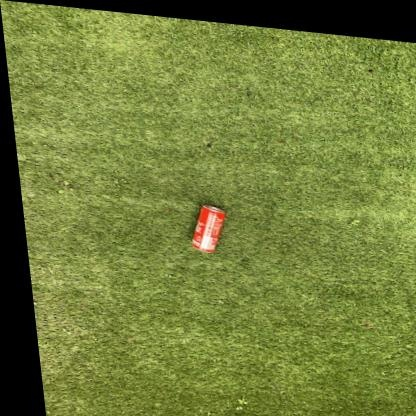trash: (192, 205, 224, 252)
